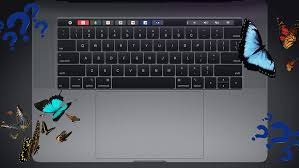keyboard: (53, 16, 247, 93)
